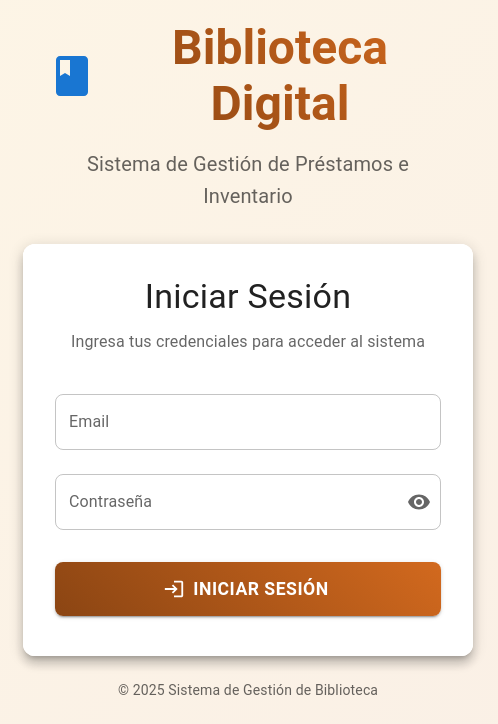
Test case: Login Component › Validación de formulario › debe mostrar error cuando la contraseña es muy corta
The width and height of the screenshot is (498, 724).
// Llenar con contraseña corta
Step 1. Type "test@example.com" into the field labelled "Email" → (248,422), box [55,394,441,450]
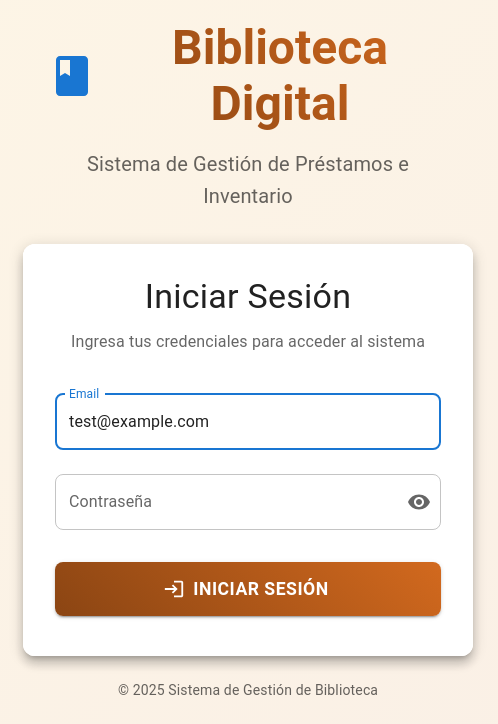
Step 2. Type "123" into the password field labelled "Contraseña" → (223,502), box [55,474,391,530]
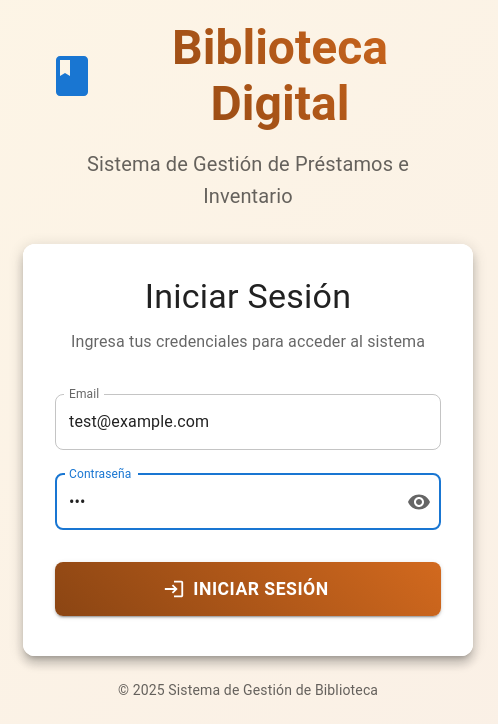
// Intentar enviar el formulario
Step 3. Click the button "Iniciar Sesión" → (248,589), box [55,562,441,616]
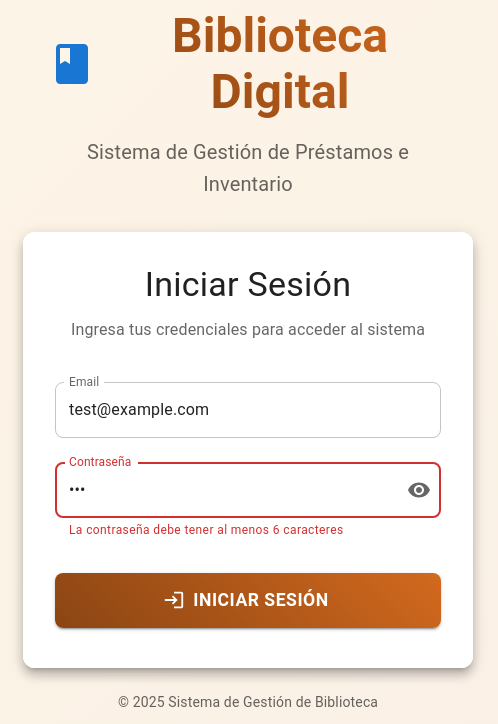
Now the text "La contraseña debe tener al menos 6 caracteres" is shown, box [69,523,344,537]
